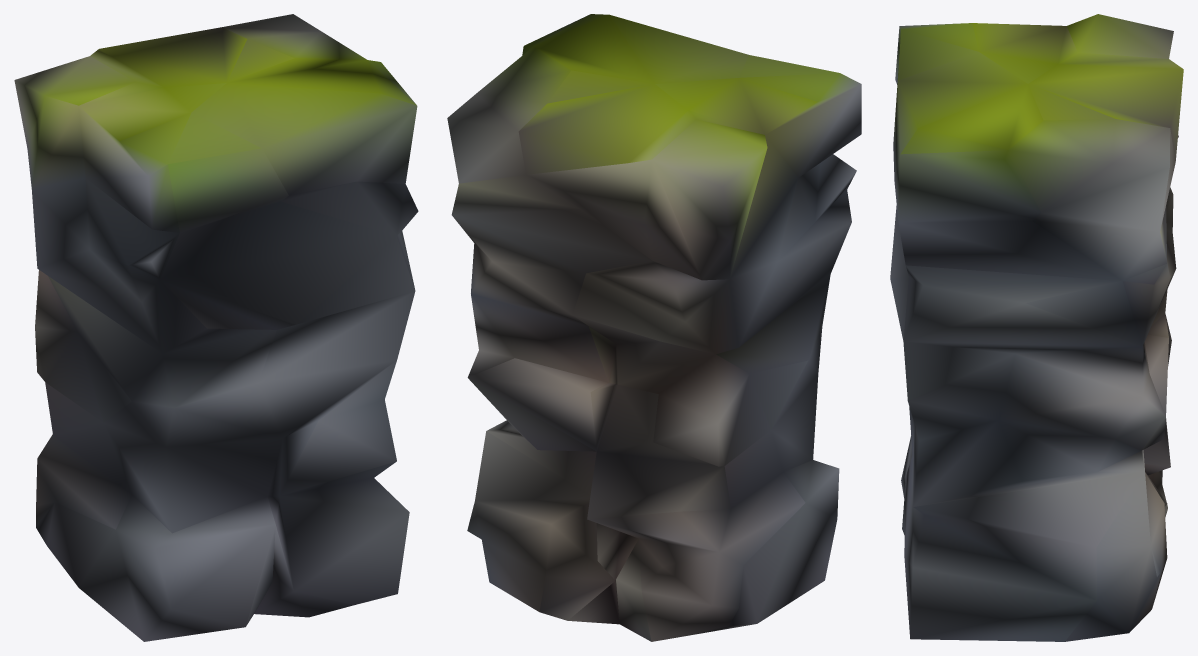
File: env-rock2.lod.glb
The picture shows the model from 3 angles, left to right: view 1: azimuth 30°, elevation 25°; view 2: azimuth 150°, elevation 25°; view 3: azimuth 270°, elevation 25°; orthographic projection.
Visible parts, largest first — view 1: tripo_node_f471cabe-a729-4bd2-bf79-c639f391b94c; view 2: tripo_node_f471cabe-a729-4bd2-bf79-c639f391b94c; view 3: tripo_node_f471cabe-a729-4bd2-bf79-c639f391b94c.
Boxes of the visible parts, x1=… form: tripo_node_f471cabe-a729-4bd2-bf79-c639f391b94c: x1=14, y1=14, x2=418, y2=641; tripo_node_f471cabe-a729-4bd2-bf79-c639f391b94c: x1=447, y1=14, x2=861, y2=641; tripo_node_f471cabe-a729-4bd2-bf79-c639f391b94c: x1=890, y1=14, x2=1183, y2=641.
Bounding box in the file's own units: 0.596 × 0.9858 × 0.519.
